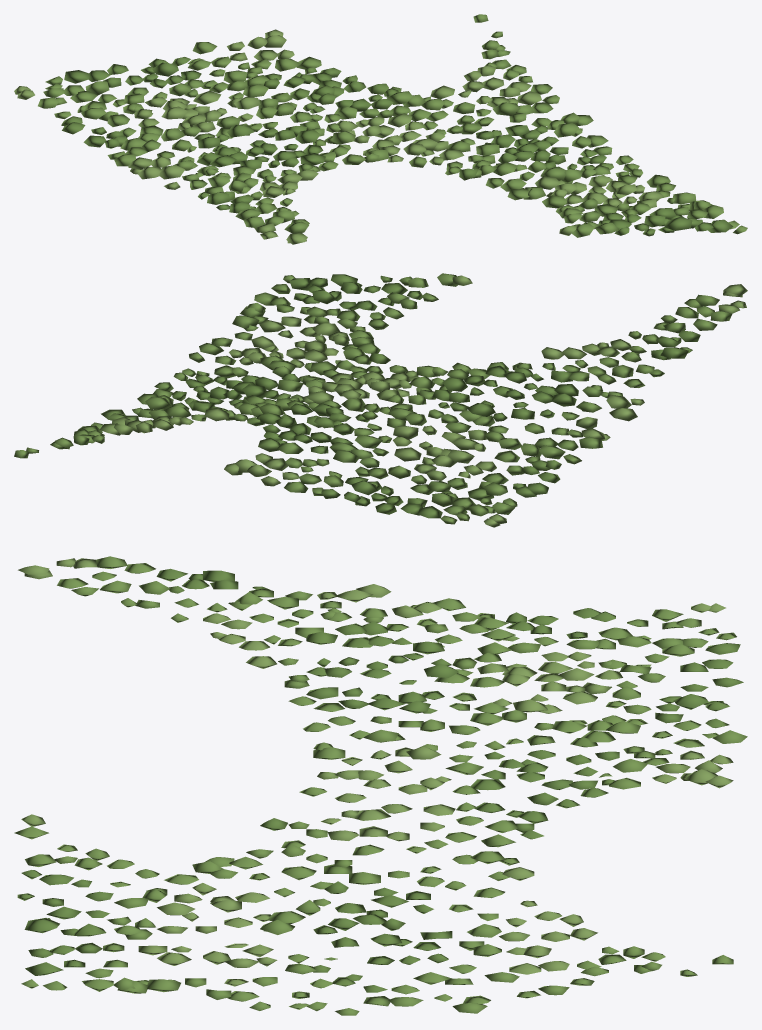
Rendered from canopy-1--6-5.glb.
3 views of the same model, one above another, from view 1: azimuth 30°, elevation 25°; view 2: azimuth 150°, elevation 25°; view 3: azimuth 270°, elevation 25° (orthographic). The views are drawn at different scales.
Size of the model in its own units: 522 by 125 by 515.
1 material, 1 textured.
